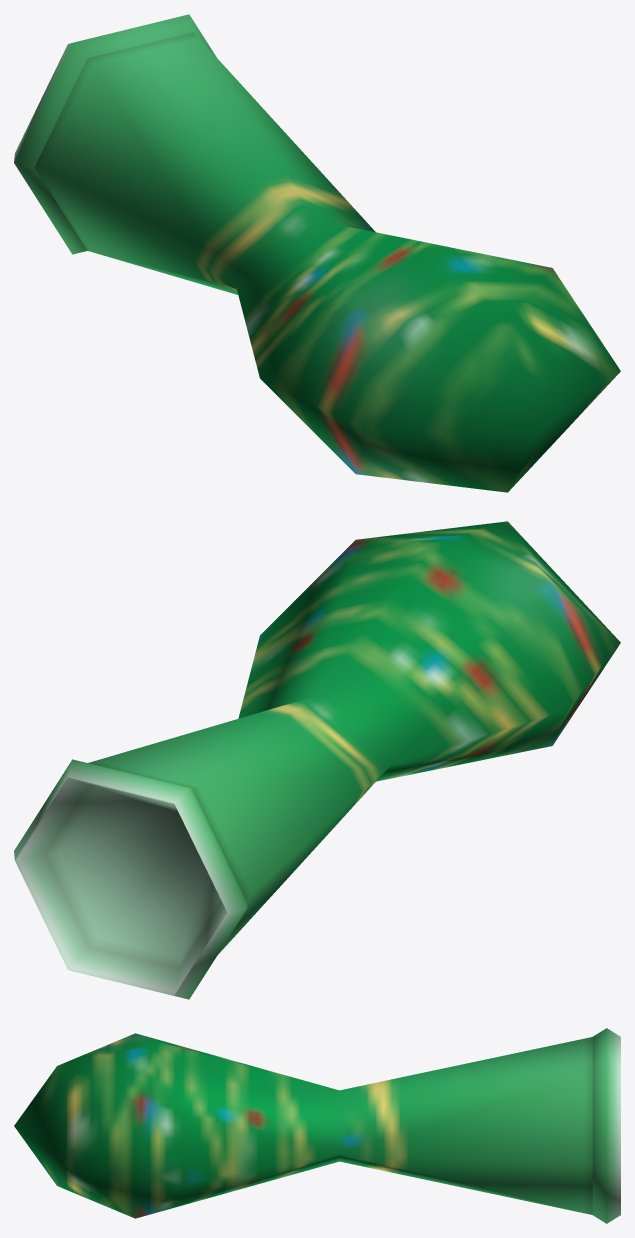
Rendered from jsf_Balloon_03.fbx.
The picture shows the model from 3 angles, top to bottom: view 1: azimuth 30°, elevation 25°; view 2: azimuth 150°, elevation 25°; view 3: azimuth 270°, elevation 25°; orthographic projection. The views are drawn at different scales.
Parts seen in each view (by area): view 1: jsf_Balloon_03; view 2: jsf_Balloon_03; view 3: jsf_Balloon_03.
Part boxes in pixels (bbox=[...]): jsf_Balloon_03: bbox=[14, 14, 620, 492]; jsf_Balloon_03: bbox=[14, 521, 620, 999]; jsf_Balloon_03: bbox=[14, 1028, 620, 1223].
Size of the model in its own units: 1.44 by 1.02 by 3.39.
